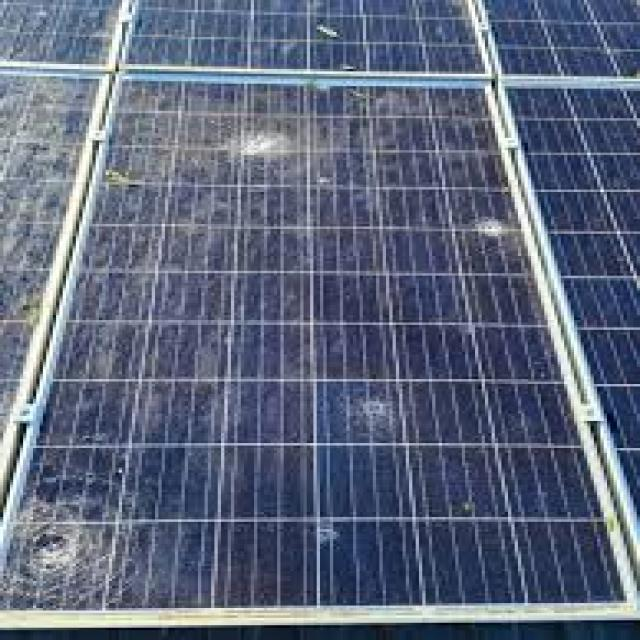faulty: (0, 74, 638, 635), (132, 5, 479, 67)
